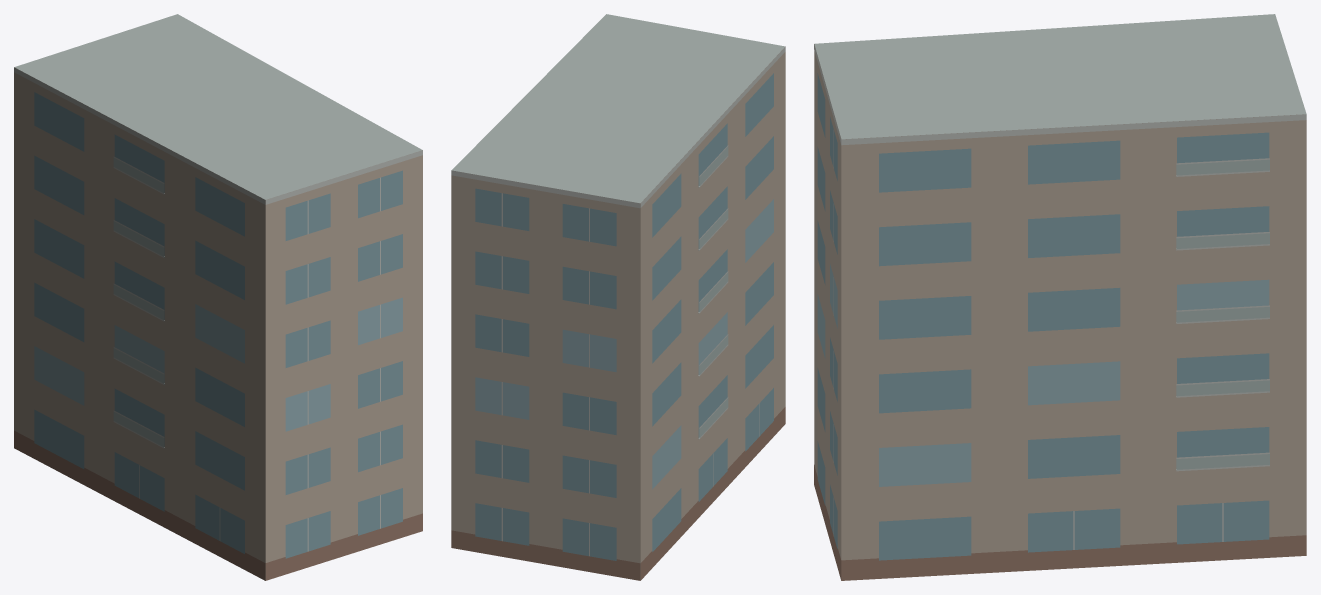
The model's file is survey-upis-32575385.glb.
3 views of the same model, side by side, from view 1: azimuth 30°, elevation 25°; view 2: azimuth 150°, elevation 25°; view 3: azimuth 270°, elevation 25° (orthographic). The views are drawn at different scales.
Visible parts, largest first — view 1: survey-upis-32575385.tmp; view 2: survey-upis-32575385.tmp; view 3: survey-upis-32575385.tmp.
Boxes of the visible parts, <box> form: survey-upis-32575385.tmp: <box>14,14,422,580</box>; survey-upis-32575385.tmp: <box>451,14,785,580</box>; survey-upis-32575385.tmp: <box>814,14,1306,580</box>.
Bounding box in the file's own units: 11.18 × 18.35 × 18.56.
